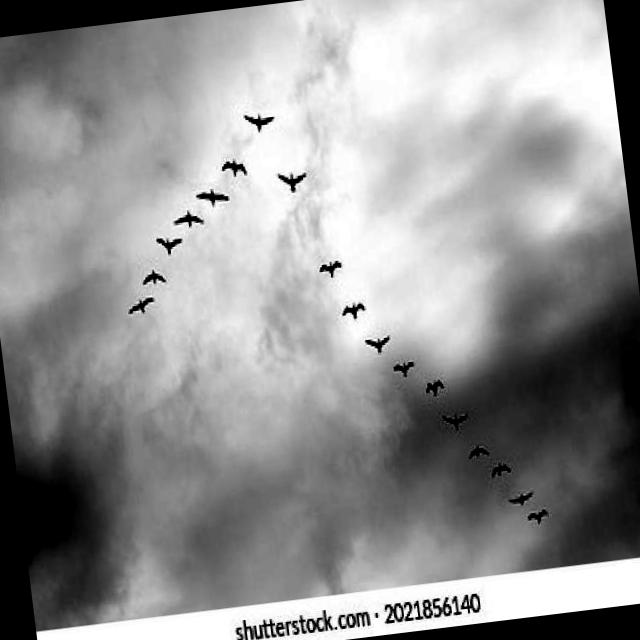bird: (172, 194, 222, 252), (420, 354, 453, 417), (214, 144, 251, 198), (193, 172, 229, 225), (236, 102, 286, 138), (121, 286, 161, 328), (136, 243, 164, 300), (150, 226, 187, 266), (314, 247, 348, 286), (362, 324, 398, 360), (337, 292, 372, 328), (438, 405, 473, 440), (463, 435, 500, 468), (505, 485, 545, 515), (388, 351, 422, 385), (275, 167, 313, 196), (523, 499, 557, 531), (486, 454, 516, 486)
